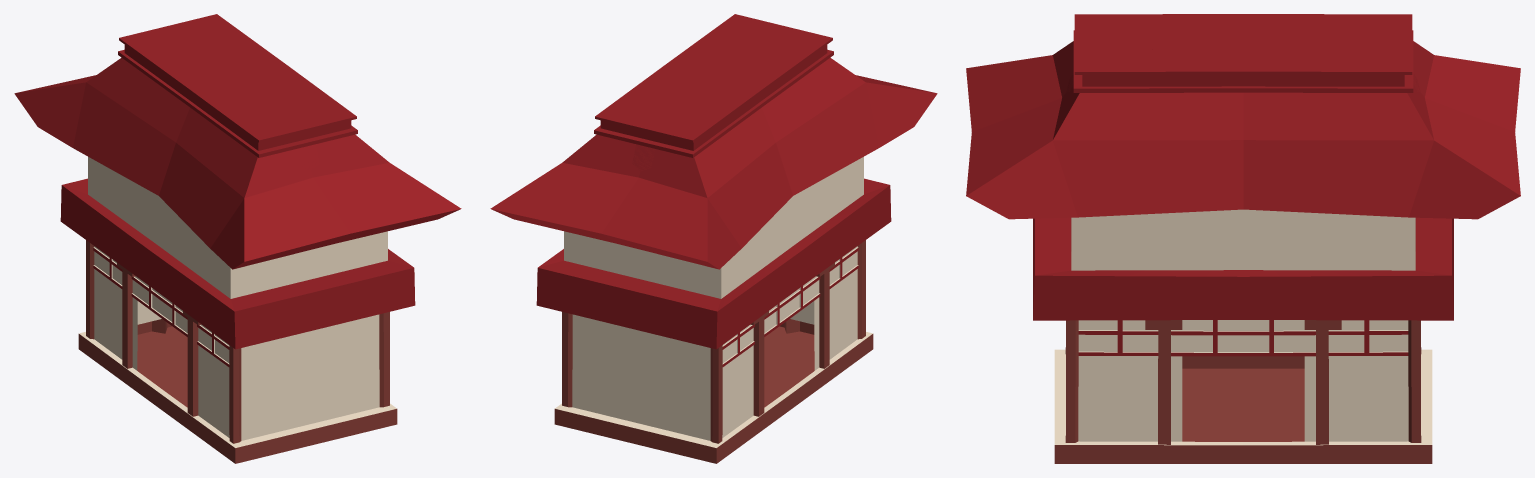
Rendered from templo1.fbx.
3 renders of one model, left to right at view 1: azimuth 30°, elevation 25°; view 2: azimuth 150°, elevation 25°; view 3: azimuth 270°, elevation 25°, orthographic. The views are drawn at different scales.
Parts seen in each view (by area): view 1: Cube; view 2: Cube; view 3: Cube.
Part boxes in pixels (x1=…): Cube: x1=14, y1=14, x2=461, y2=463; Cube: x1=490, y1=14, x2=937, y2=463; Cube: x1=966, y1=14, x2=1520, y2=463.
Size of the model in its own units: 437 by 596 by 802.
